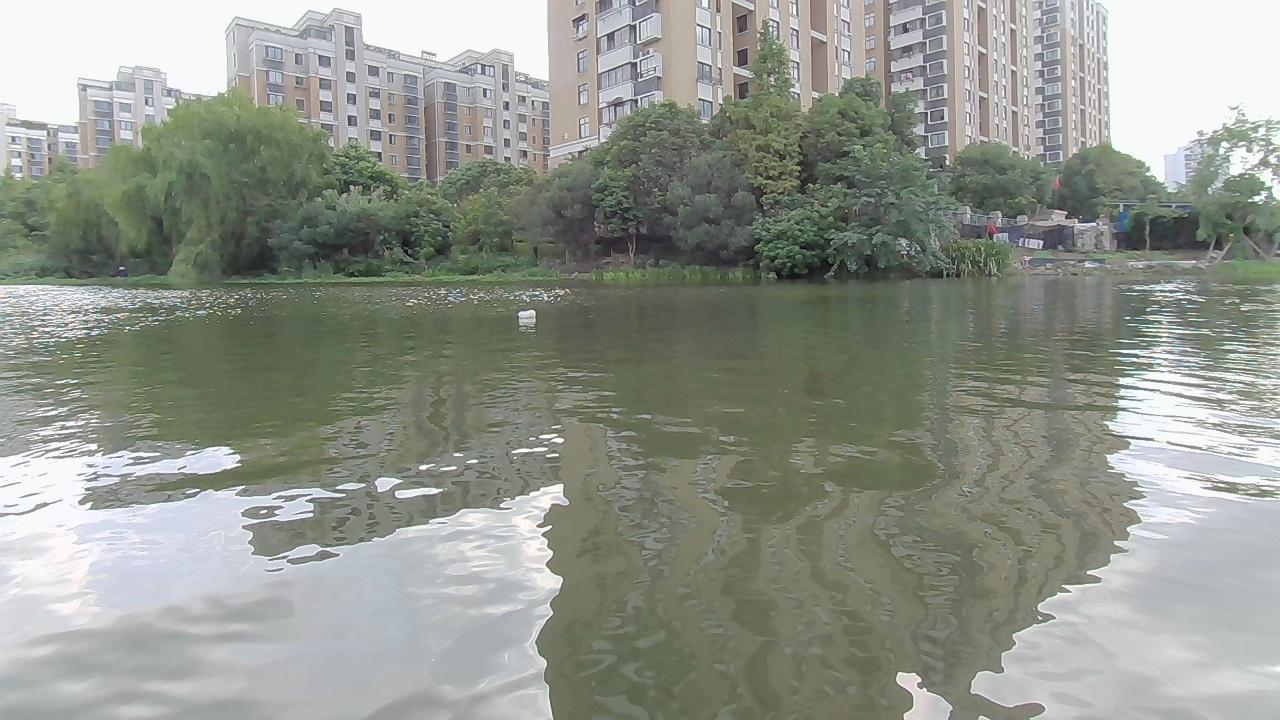bottle: (515, 305, 535, 321)
